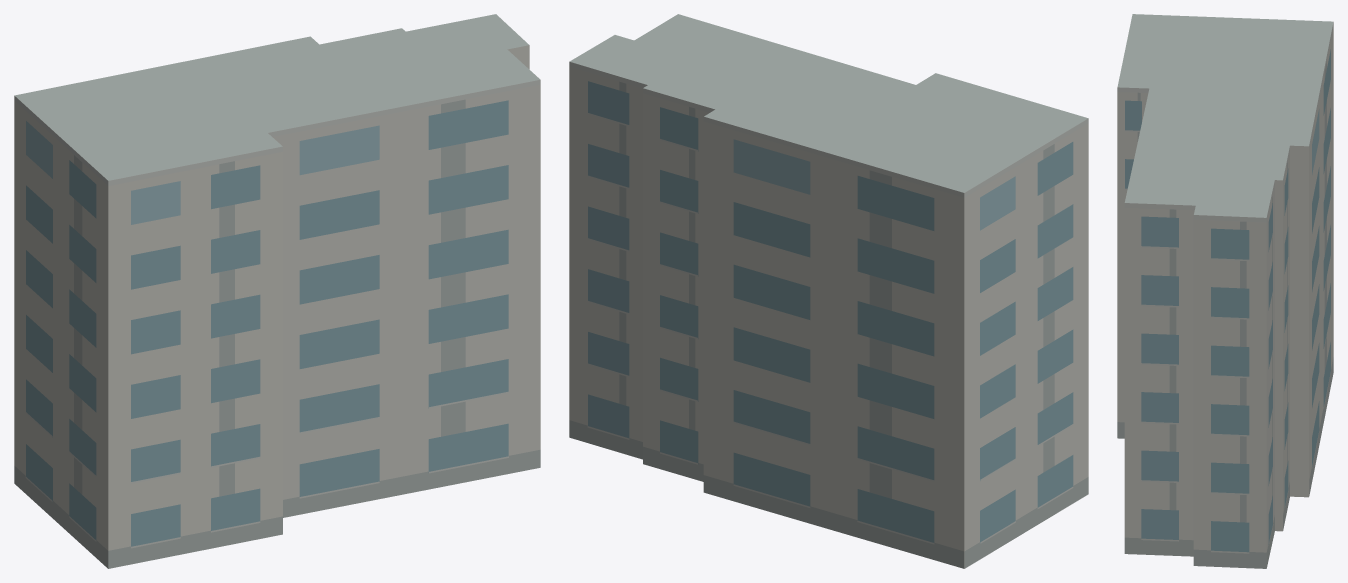
File: survey-upis-32634438.glb
3 renders of one model, left to right at view 1: azimuth 30°, elevation 25°; view 2: azimuth 150°, elevation 25°; view 3: azimuth 270°, elevation 25°, orthographic. The views are drawn at different scales.
Parts seen in each view (by area): view 1: survey-upis-32634438.tmp; view 2: survey-upis-32634438.tmp; view 3: survey-upis-32634438.tmp.
Part boxes in pixels (left/top/right/bottom): survey-upis-32634438.tmp: left=14, top=14, right=540, bottom=568; survey-upis-32634438.tmp: left=569, top=14, right=1088, bottom=568; survey-upis-32634438.tmp: left=1117, top=14, right=1333, bottom=568.
Size of the model in its own units: 22.81 by 18.3 by 10.22.
